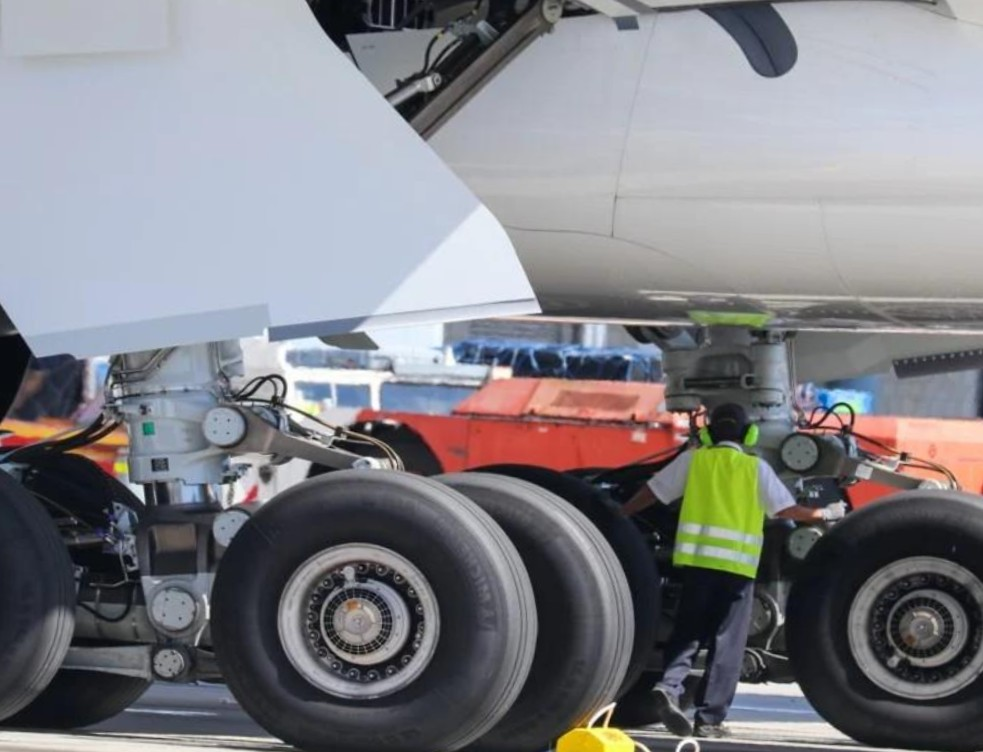chock: (551, 715, 641, 752)
wheel: (201, 454, 561, 752), (389, 464, 651, 752), (775, 477, 983, 752), (0, 441, 168, 735), (0, 440, 96, 730), (328, 418, 448, 483)
